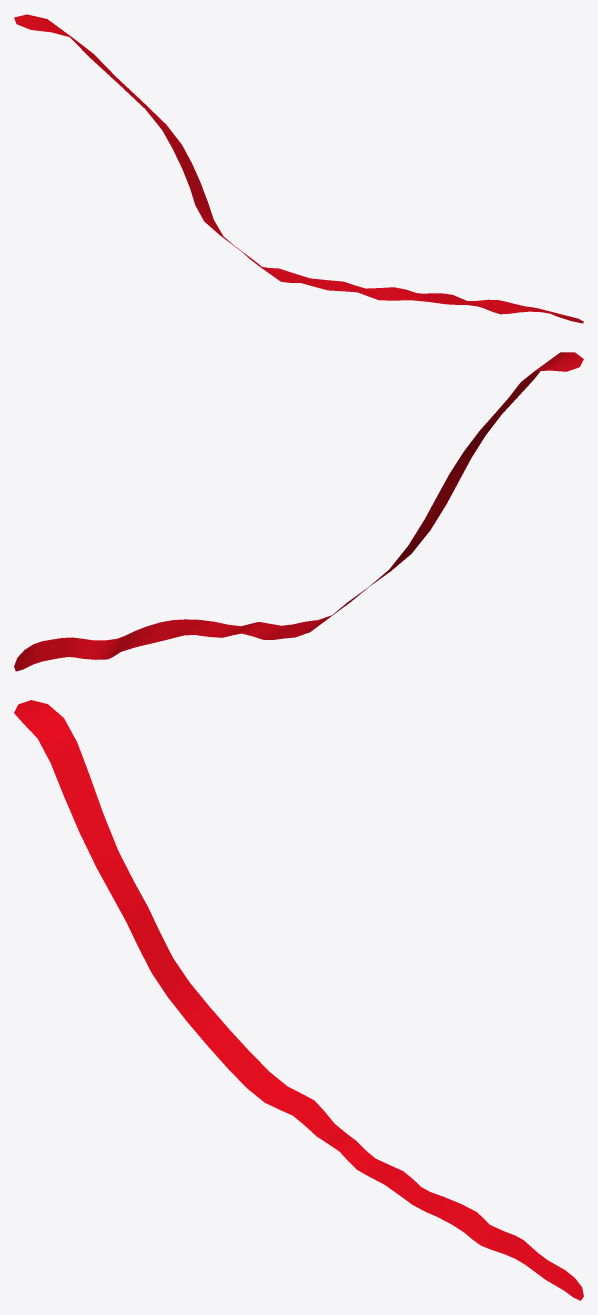
File: hair7.fbx
3 views of the same model, one above another, from view 1: azimuth 30°, elevation 25°; view 2: azimuth 150°, elevation 25°; view 3: azimuth 330°, elevation 25° (orthographic). The views are drawn at different scales.
Visible parts, largest first — view 1: Plane.006; view 2: Plane.006; view 3: Plane.006.
Part boxes in pixels (x1,y1,x2,y2): Plane.006: (14, 14, 583, 323); Plane.006: (14, 352, 583, 671); Plane.006: (14, 700, 583, 1300).
Bounding box in the file's own units: 4316 × 3177 × 647.
